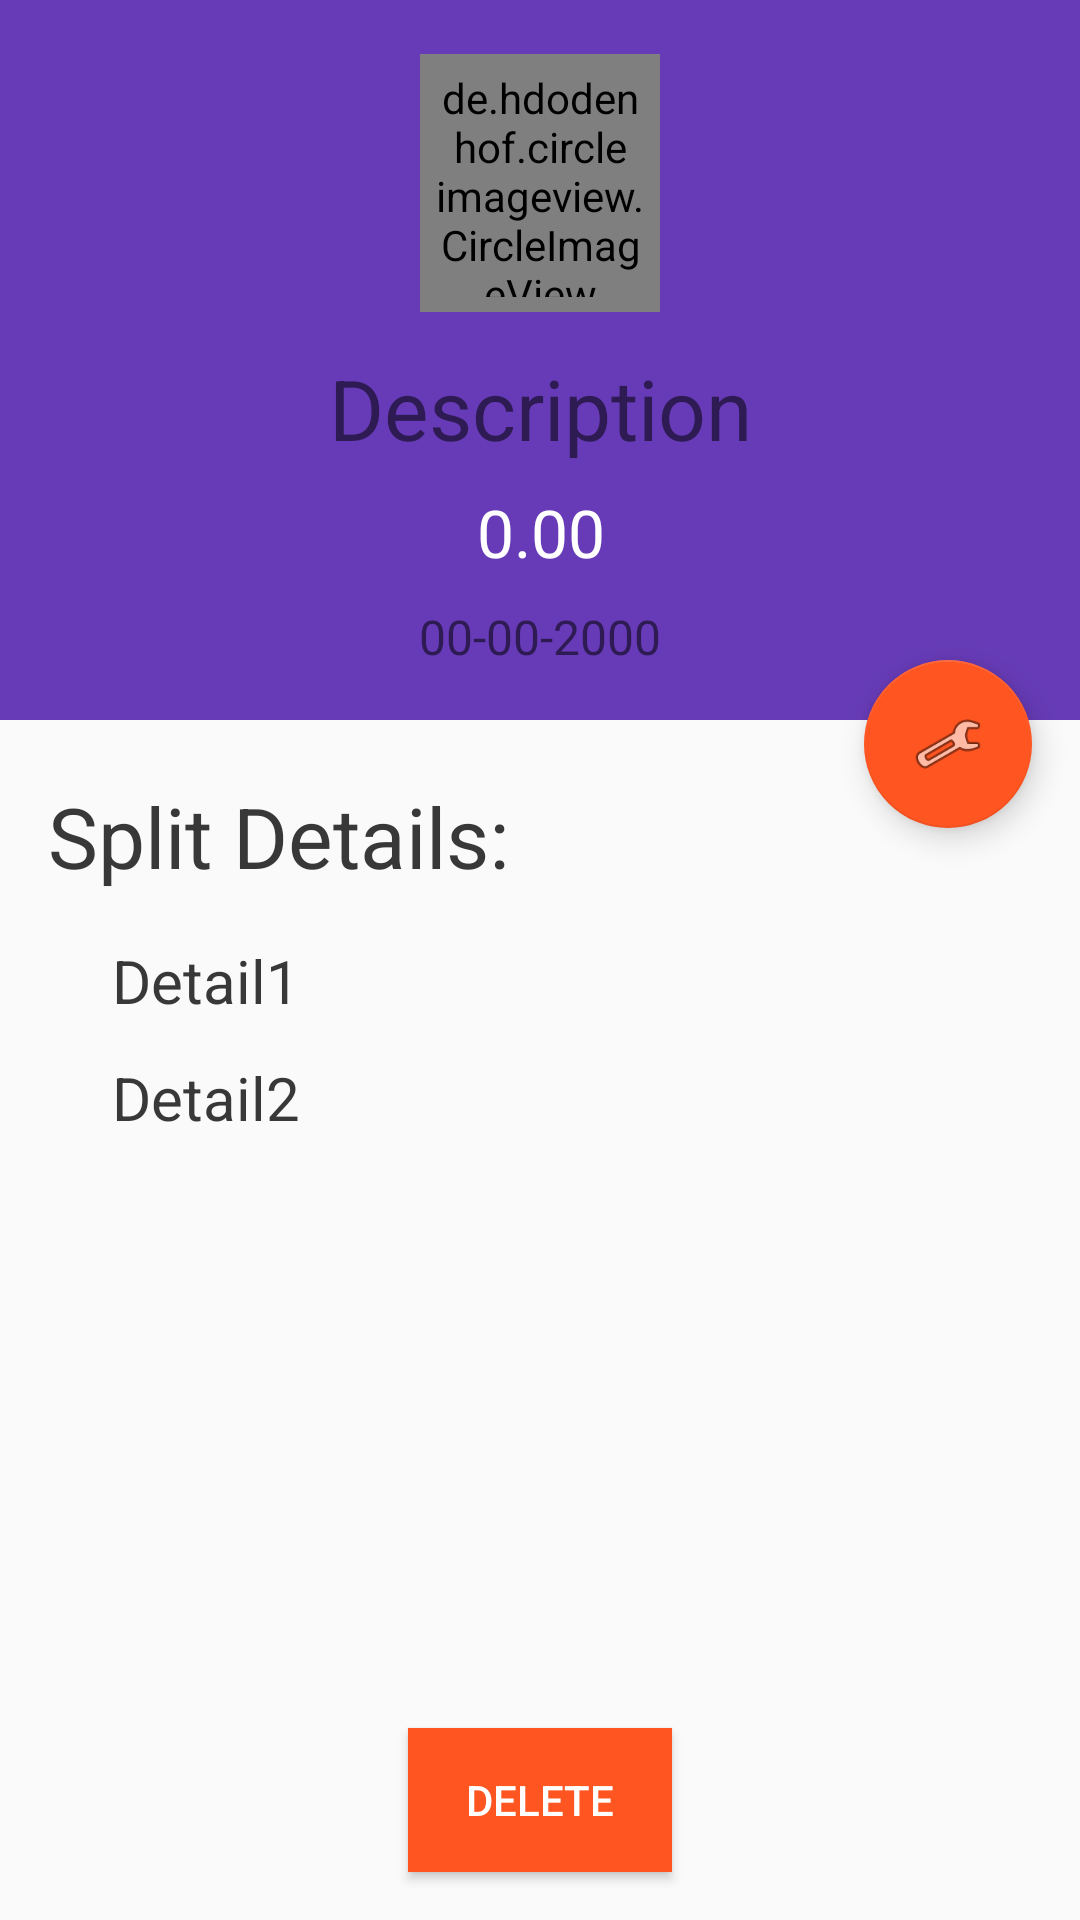

Icons on this 1080px x 1920px Android screen, each with the point to tap as (x=x, y=y):
preferences: (x=948, y=744)
